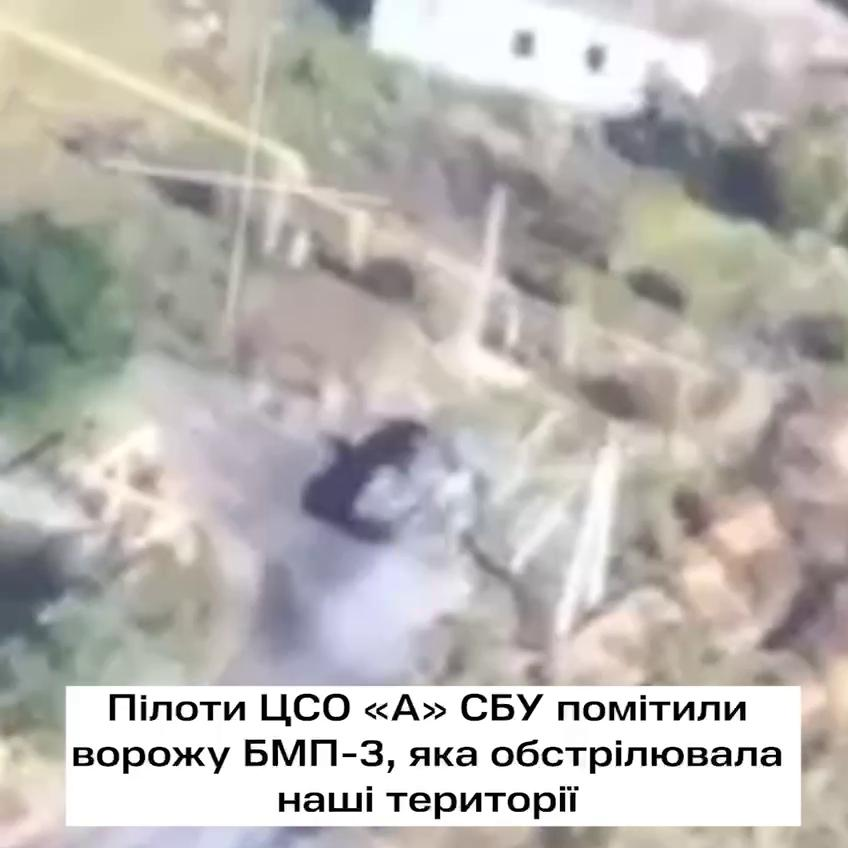tank: (344, 420, 492, 552)
